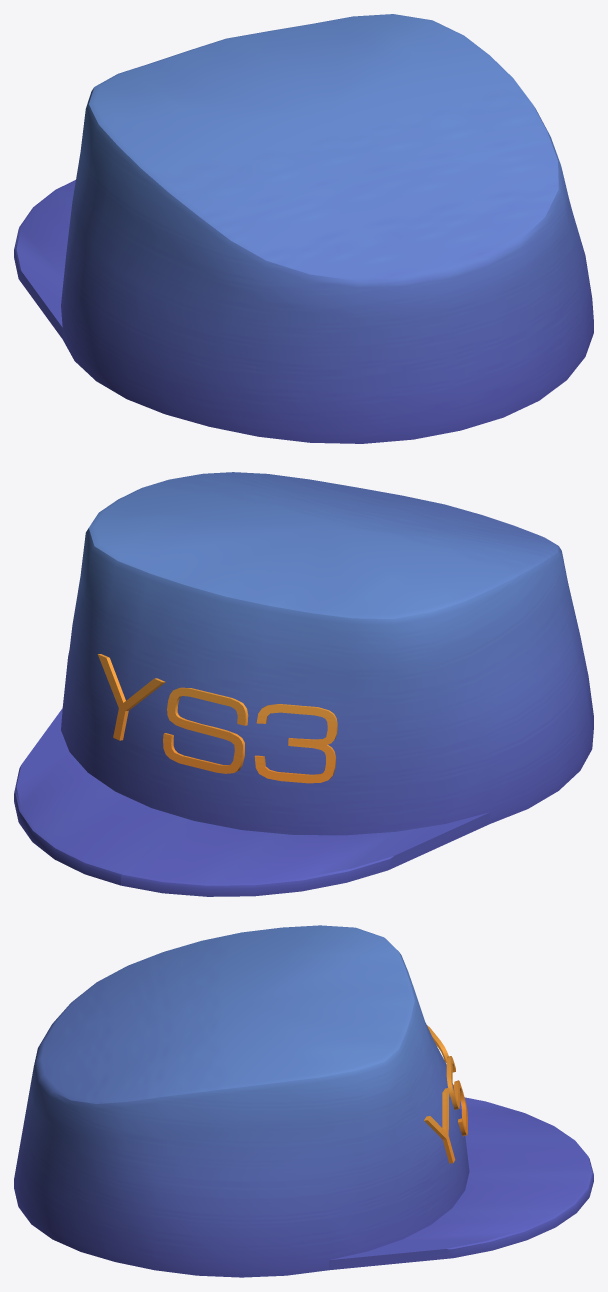
The model's file is Attach_Hat_YS3Cap.fbx.
3 views of the same model, one above another, from view 1: azimuth 30°, elevation 25°; view 2: azimuth 150°, elevation 25°; view 3: azimuth 270°, elevation 25° (orthographic). The views are drawn at different scales.
Visible parts, largest first — view 1: Attach_Hat_YS3Cap; view 2: Attach_Hat_YS3Cap; view 3: Attach_Hat_YS3Cap.
Boxes of the visible parts, box(x1,y1,x2,y2) form: Attach_Hat_YS3Cap: box(14, 14, 593, 443); Attach_Hat_YS3Cap: box(14, 472, 593, 896); Attach_Hat_YS3Cap: box(14, 925, 593, 1277).
Size of the model in its own units: 1 by 1.27 by 0.4616.
